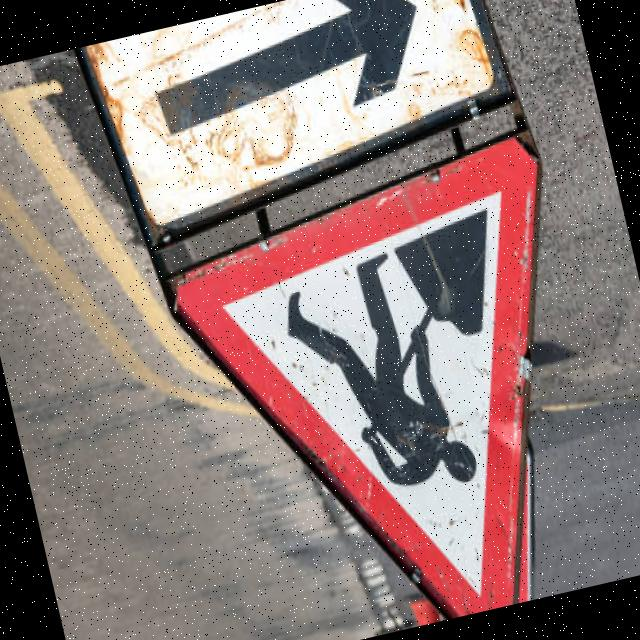road_work: (151, 153, 640, 640)
